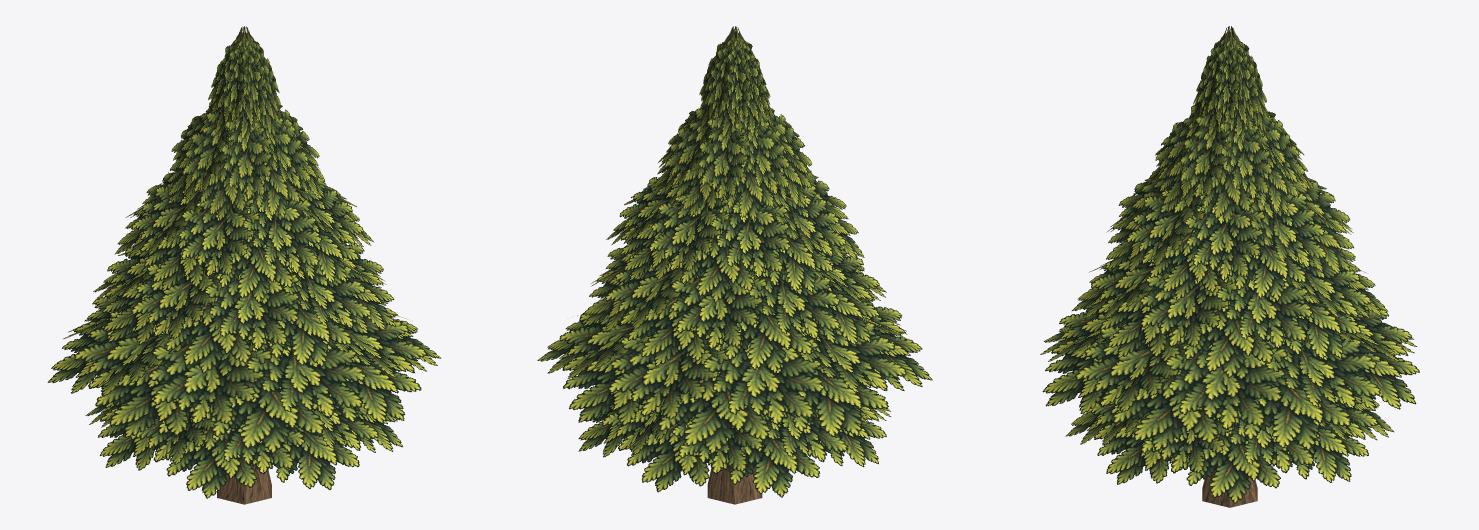
The model's file is Abete_07_Oliva.obj.
The picture shows the model from 3 angles, left to right: view 1: azimuth 30°, elevation 25°; view 2: azimuth 150°, elevation 25°; view 3: azimuth 270°, elevation 25°; orthographic projection.
Visible parts, largest first — view 1: Abete_07_Oliva; view 2: Abete_07_Oliva; view 3: Abete_07_Oliva.
Boxes of the visible parts, x1=… form: Abete_07_Oliva: x1=47, y1=26, x2=441, y2=504; Abete_07_Oliva: x1=537, y1=26, x2=932, y2=504; Abete_07_Oliva: x1=1040, y1=26, x2=1419, y2=507.
Size of the model in its own units: 4.42 by 4.9 by 4.42.
2 materials, 2 textured.
